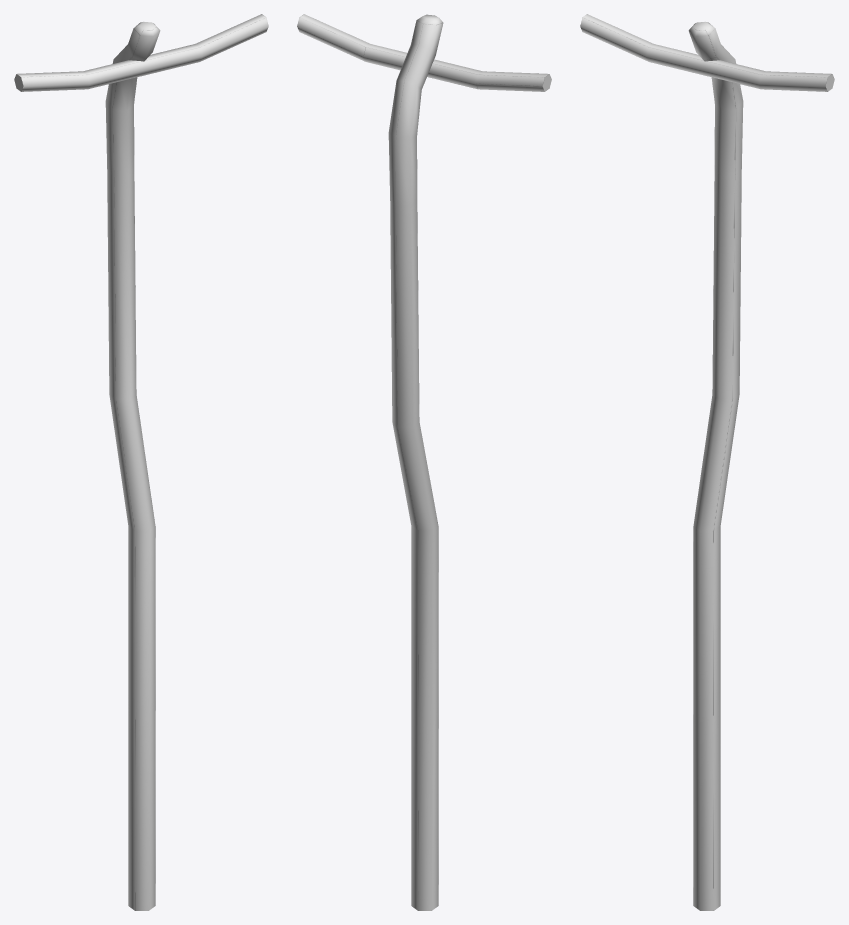
3 renders of one model, left to right at view 1: azimuth 30°, elevation 25°; view 2: azimuth 150°, elevation 25°; view 3: azimuth 330°, elevation 25°, orthographic.
Parts seen in each view (by area): view 1: 柱体.001_Baked; view 2: 柱体.001_Baked; view 3: 柱体.001_Baked.
Part boxes in pixels (x1,y1,x2,y2): 柱体.001_Baked: [14, 14, 268, 910]; 柱体.001_Baked: [297, 14, 551, 910]; 柱体.001_Baked: [580, 14, 834, 910].
Size of the model in its own units: 173 by 596 by 49.9.
1 material, 1 textured.
